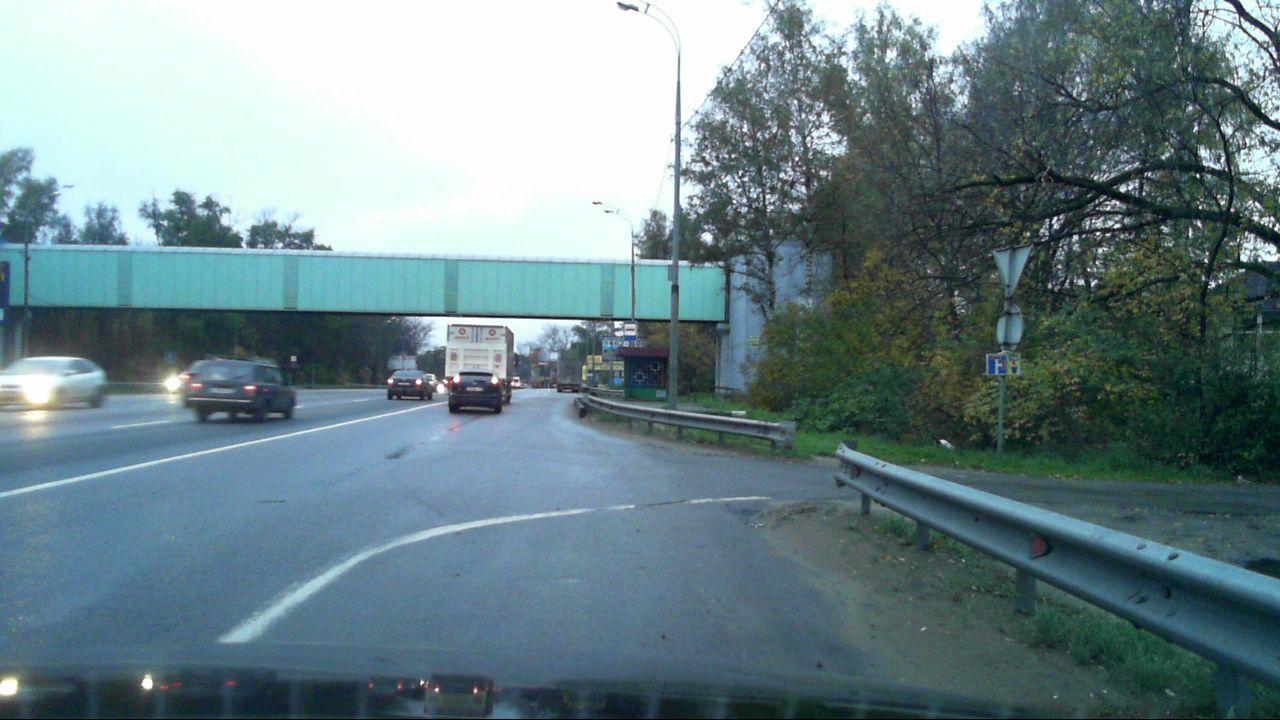5_16: (622, 320, 638, 341)
6_8_2: (988, 354, 1011, 376)
